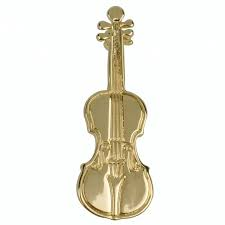Violin: (59, 4, 183, 225)
